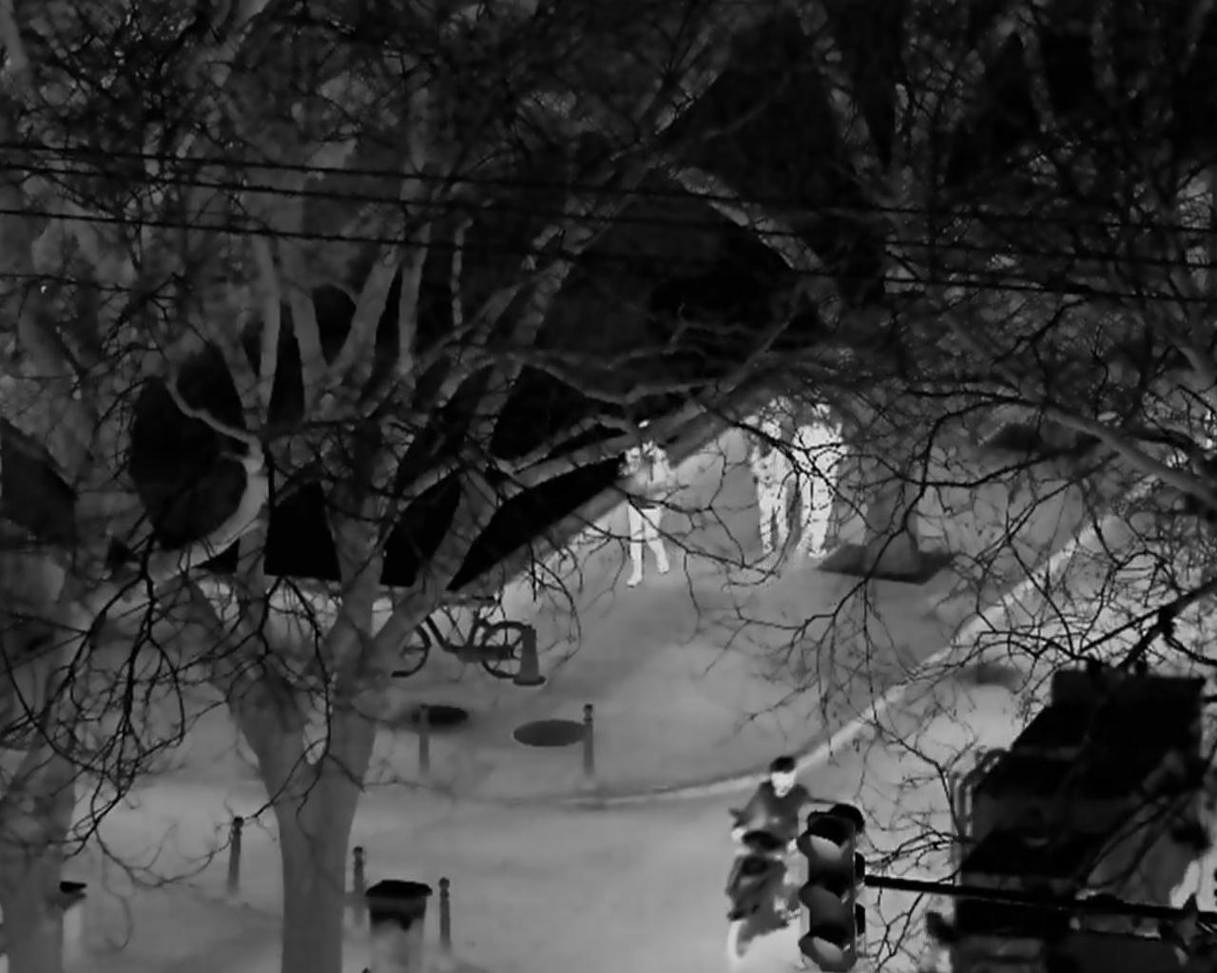person: (616, 418, 673, 589), (791, 401, 849, 560), (747, 419, 793, 556)
